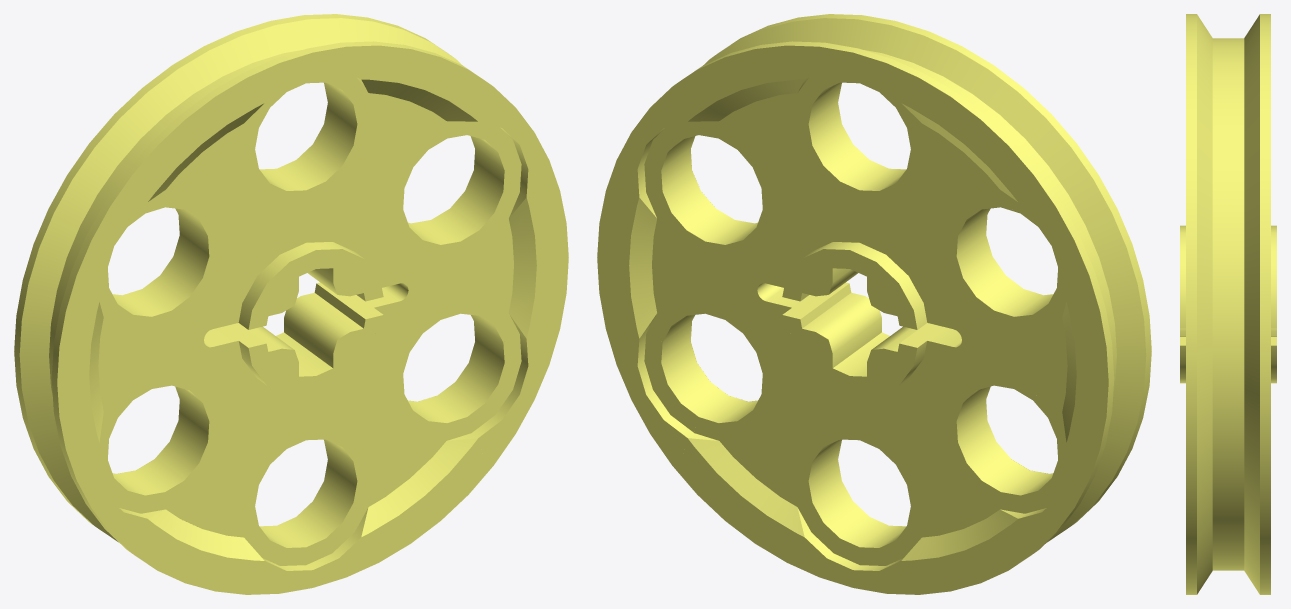
The picture shows the model from 3 angles, left to right: view 1: azimuth 30°, elevation 25°; view 2: azimuth 150°, elevation 25°; view 3: azimuth 270°, elevation 25°; orthographic projection.
Parts seen in each view (by area): view 1: 4185a.dat; view 2: 4185a.dat; view 3: 4185a.dat.
Part boxes in pixels (bbox=[...]): 4185a.dat: bbox=[14, 14, 568, 594]; 4185a.dat: bbox=[597, 14, 1151, 594]; 4185a.dat: bbox=[1180, 14, 1276, 594].
Bounding box in the file's own units: 0.024 × 0.024 × 0.004.
